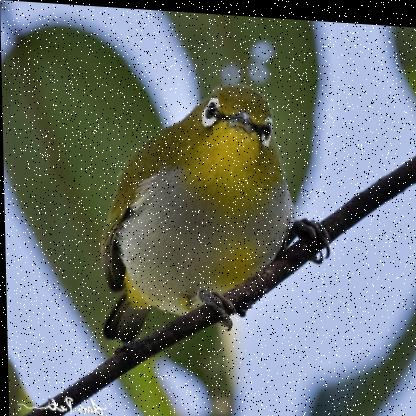Burung: (96, 74, 331, 354)
